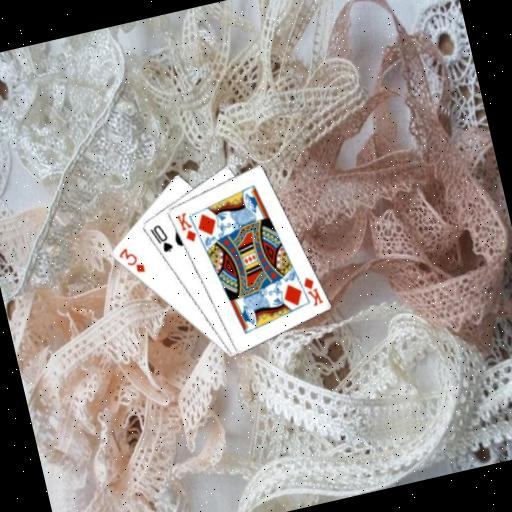10S: (146, 219, 176, 257)
3D: (114, 242, 148, 280)
KD: (172, 208, 200, 247), (298, 272, 325, 310)
